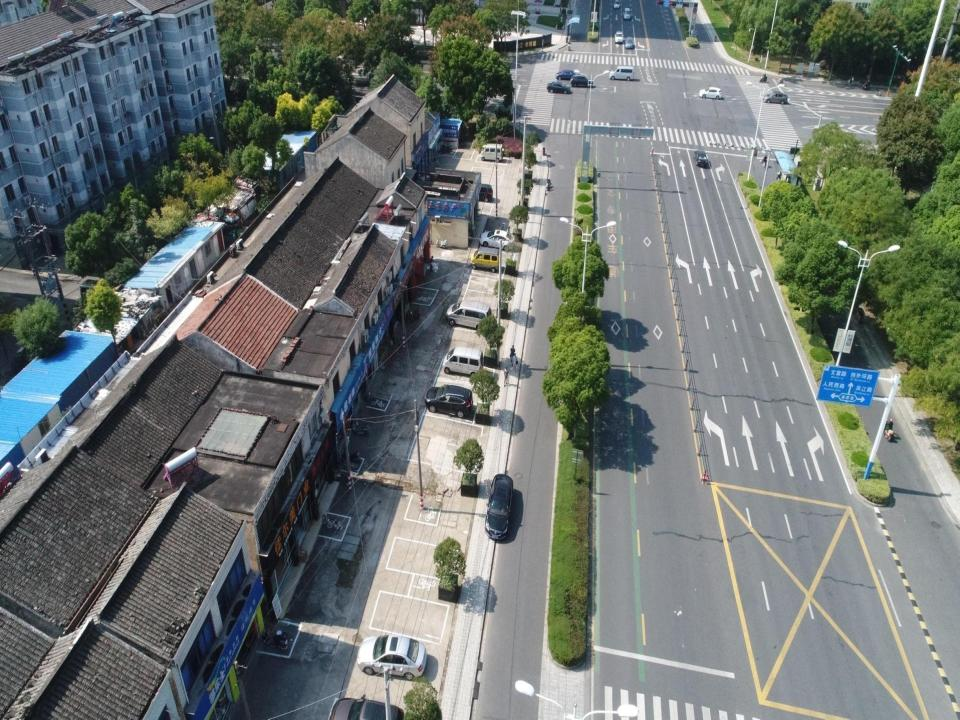car: (356, 635, 427, 681), (327, 695, 410, 720), (484, 473, 514, 542), (424, 385, 474, 416), (479, 231, 516, 249), (472, 182, 492, 201), (571, 73, 594, 87), (698, 86, 721, 100), (546, 81, 571, 93), (764, 91, 788, 103), (694, 150, 709, 168), (556, 70, 576, 80), (614, 30, 624, 44), (625, 36, 633, 51), (624, 5, 631, 20), (613, 0, 619, 9)
van: (446, 297, 493, 331), (442, 346, 482, 376), (471, 248, 502, 272), (480, 144, 503, 163), (608, 66, 635, 82)
